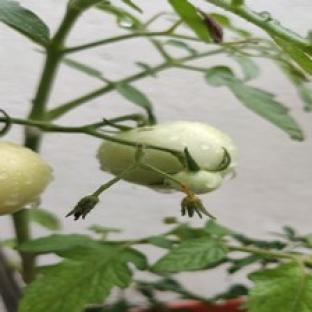Tomato: (116, 122, 236, 192), (0, 143, 51, 214), (173, 170, 222, 193)
